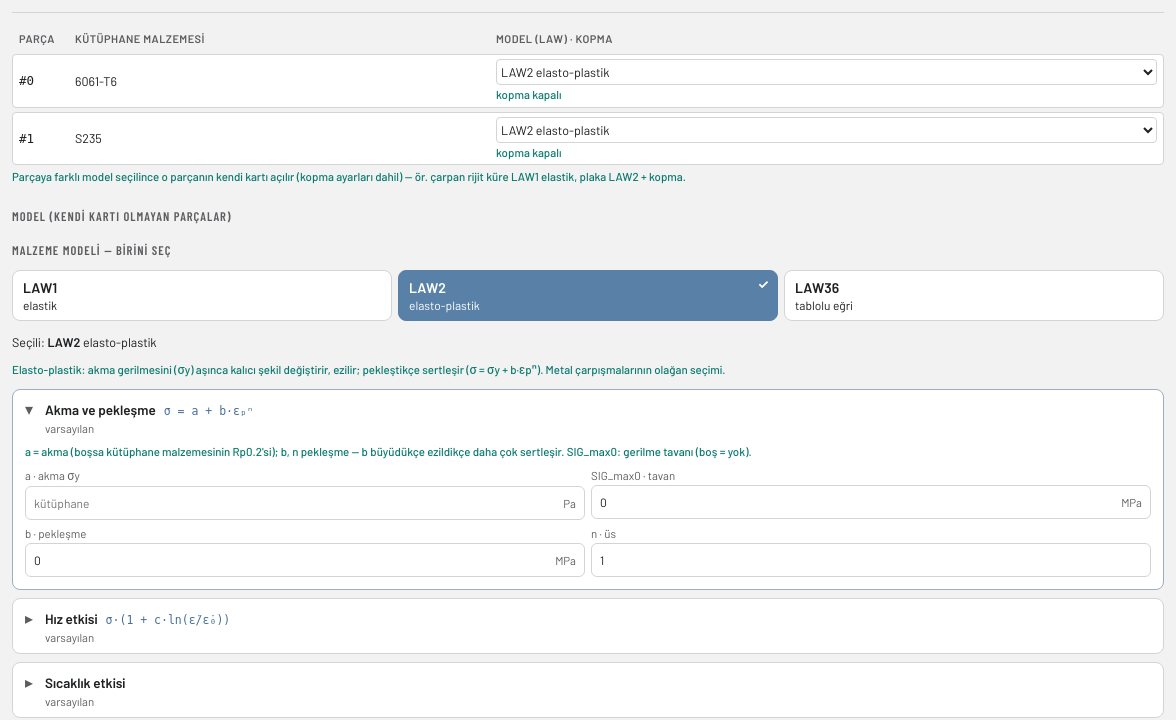
Test: CrashMaterialSection · parça tablosu (1.23 A2) › her parça: kütüphane malzemesi + yalnız LAW adları; farklı LAW kendi kartını açar, aynısı kaldırır
Expected: the text "S235" is shown, top-left (75, 130), bottom-right (102, 146)
Select "LAW1 elastik" in the dropdown named "Parça 1 modeli" at (827, 130), box top-left (496, 116), bottom-right (1157, 142)
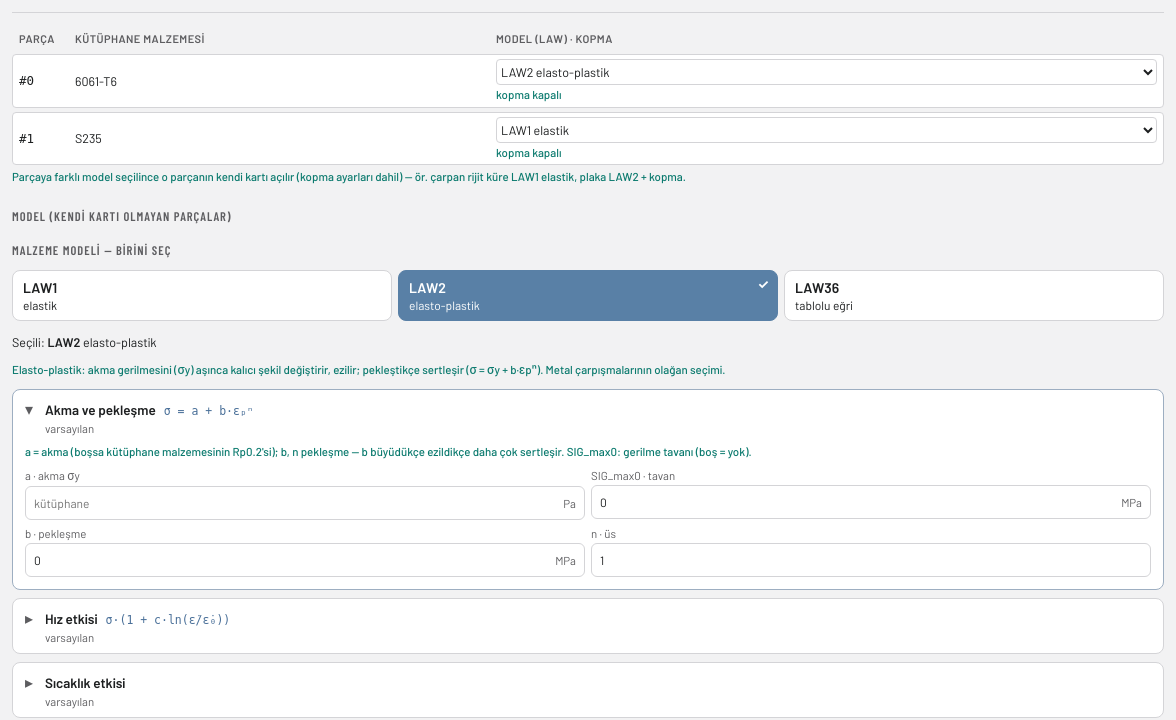
Select "LAW2 elasto-plastik" in the dropdown named "Parça 1 modeli" at (827, 130), box top-left (496, 116), bottom-right (1157, 142)
(page scrolled)
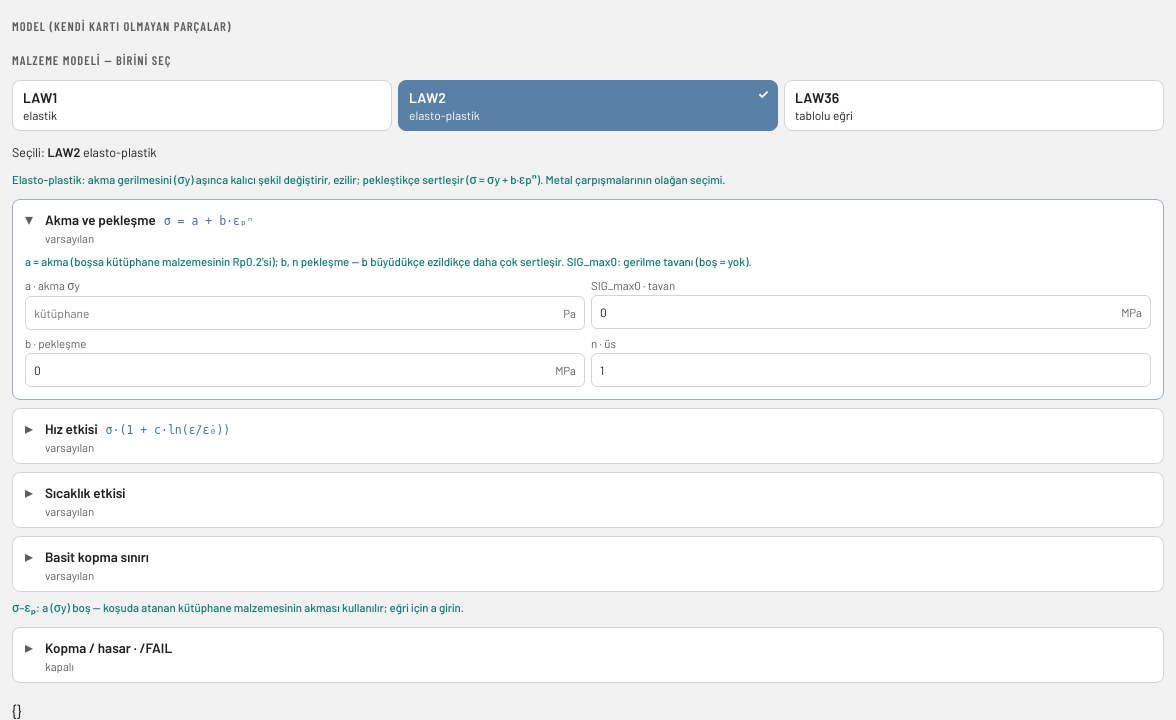
Result: the text with test id "parts" reads "{}" at top-left (12, 701), bottom-right (22, 719)
